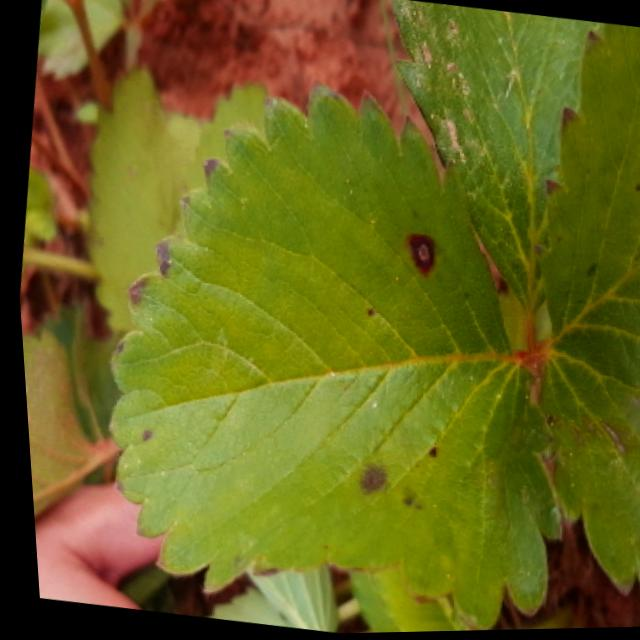Leaf Spot: (101, 86, 557, 632), (527, 26, 640, 601)
